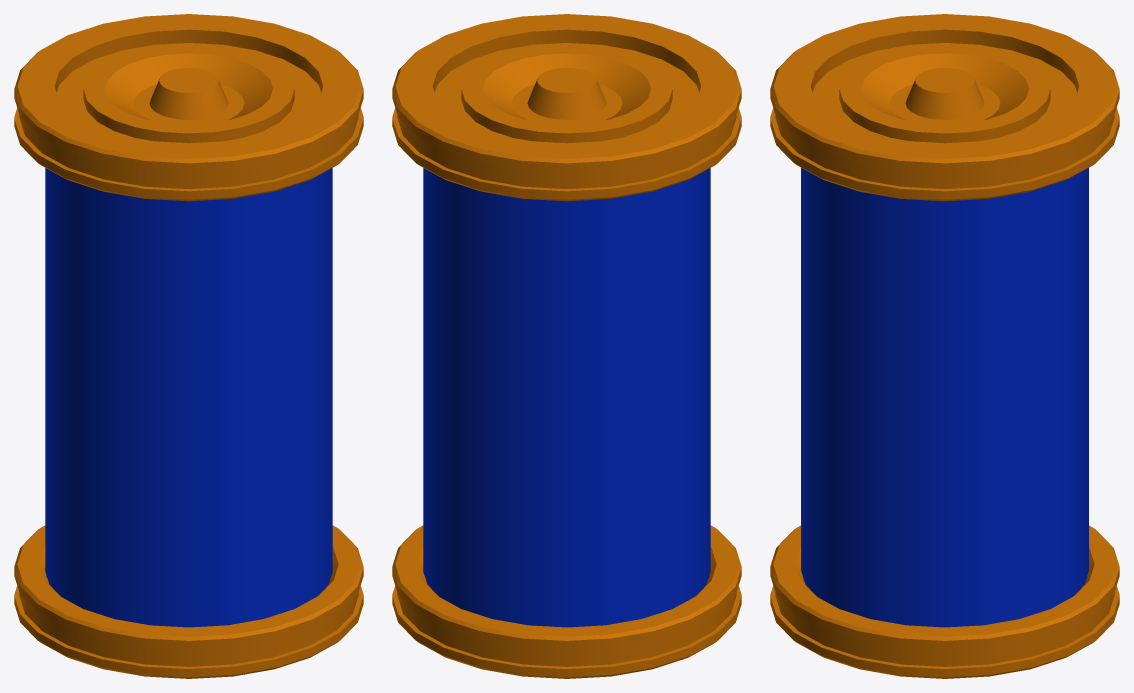
3 renders of one model, left to right at view 1: azimuth 30°, elevation 25°; view 2: azimuth 150°, elevation 25°; view 3: azimuth 270°, elevation 25°, orthographic.
Parts seen in each view (by area): view 1: Glass, Metal; view 2: Glass, Metal; view 3: Glass, Metal.
Part boxes in pixels (x1,y1,x2,y2): Glass: [45, 168, 332, 627]; Metal: [14, 14, 363, 678]; Glass: [423, 168, 710, 627]; Metal: [392, 14, 741, 678]; Glass: [801, 168, 1088, 627]; Metal: [770, 14, 1119, 678].
Size of the model in its own units: 18.35 by 30.46 by 18.35.
